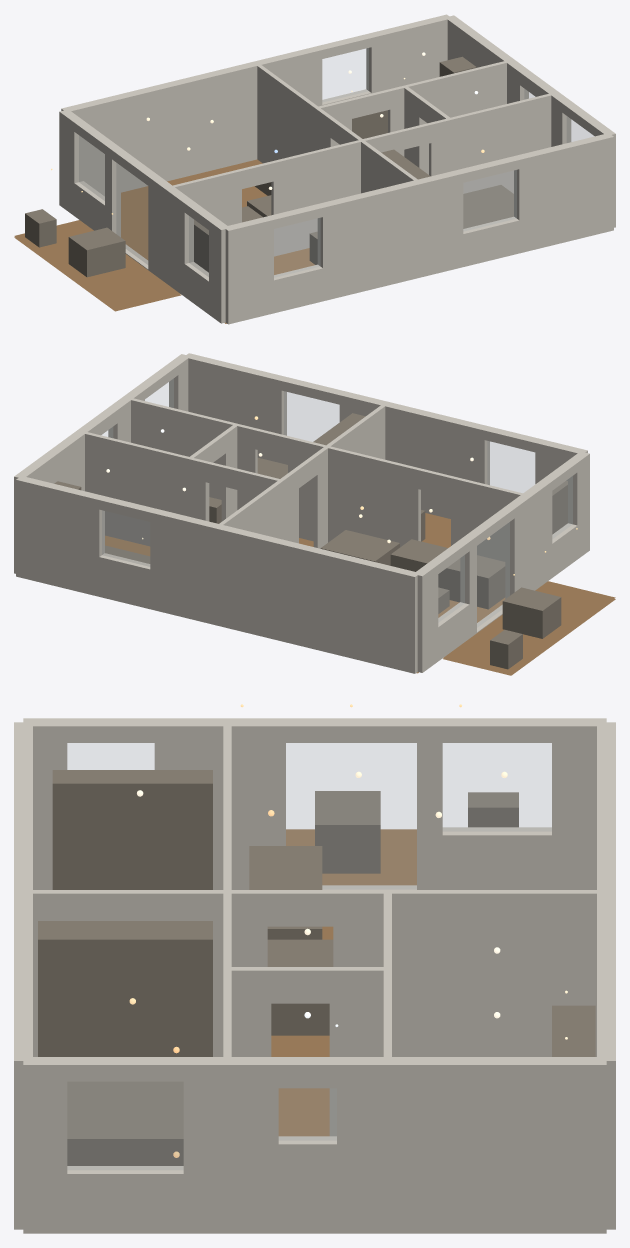
The picture shows the model from 3 angles, top to bottom: view 1: azimuth 30°, elevation 25°; view 2: azimuth 150°, elevation 25°; view 3: azimuth 270°, elevation 25°; orthographic projection. The views are drawn at different scales.
Parts seen in each view (by area): view 1: dv_walls, dv_glass, dv_floor, dv_occluder_balcony_table, dv_occluder_bed, dv_occluder_planter, dv_occluder_kitchen_counter, dv_occluder_bookshelf, dv_occluder_wardrobe, dv_occluder_fridge; view 2: dv_walls, dv_glass, dv_floor, dv_occluder_sofa, dv_occluder_balcony_table, dv_occluder_dining_table, dv_occluder_planter, dv_occluder_bookshelf, dv_occluder_wardrobe, dv_occluder_bed; view 3: dv_walls, dv_glass, dv_occluder_wardrobe, dv_occluder_bookshelf, dv_occluder_bed, dv_floor, dv_occluder_balcony_table, dv_occluder_sofa, dv_occluder_dining_table, dv_occluder_kitchen_counter, dv_occluder_planter.
Part boxes in pixels (<box>): dv_walls: <box>59,14,615,324</box>; dv_glass: <box>79,48,593,277</box>; dv_floor: <box>14,159,314,323</box>; dv_occluder_balcony_table: <box>68,227,125,277</box>; dv_occluder_bed: <box>463,185,513,228</box>; dv_occluder_planter: <box>25,209,56,247</box>; dv_occluder_kitchen_counter: <box>352,110,387,138</box>; dv_occluder_bookshelf: <box>194,219,208,272</box>; dv_occluder_wardrobe: <box>381,149,430,179</box>; dv_occluder_fridge: <box>439,56,476,76</box>; dv_walls: <box>14,353,589,673</box>; dv_glass: <box>102,379,572,627</box>; dv_floor: <box>105,513,615,675</box>; dv_occluder_sofa: <box>390,539,505,609</box>; dv_occluder_balcony_table: <box>502,587,561,638</box>; dv_occluder_dining_table: <box>320,530,399,565</box>; dv_occluder_planter: <box>490,630,522,669</box>; dv_occluder_bookshelf: <box>552,480,567,534</box>; dv_occluder_wardrobe: <box>313,413,365,445</box>; dv_occluder_bed: <box>257,457,287,478</box>; dv_walls: <box>14,718,615,1233</box>; dv_glass: <box>67,743,551,1169</box>; dv_occluder_wardrobe: <box>38,921,212,1056</box>; dv_occluder_bookshelf: <box>52,770,212,889</box>; dv_occluder_bed: <box>67,1081,183,1165</box>; dv_floor: <box>271,829,416,1136</box>; dv_occluder_balcony_table: <box>315,791,380,873</box>; dv_occluder_sofa: <box>249,846,322,939</box>; dv_occluder_dining_table: <box>267,939,333,1035</box>; dv_occluder_kitchen_counter: <box>552,1005,595,1056</box>; dv_occluder_planter: <box>468,792,518,827</box>.
Size of the model in its own units: 13.13 by 2.59 by 8.26.
